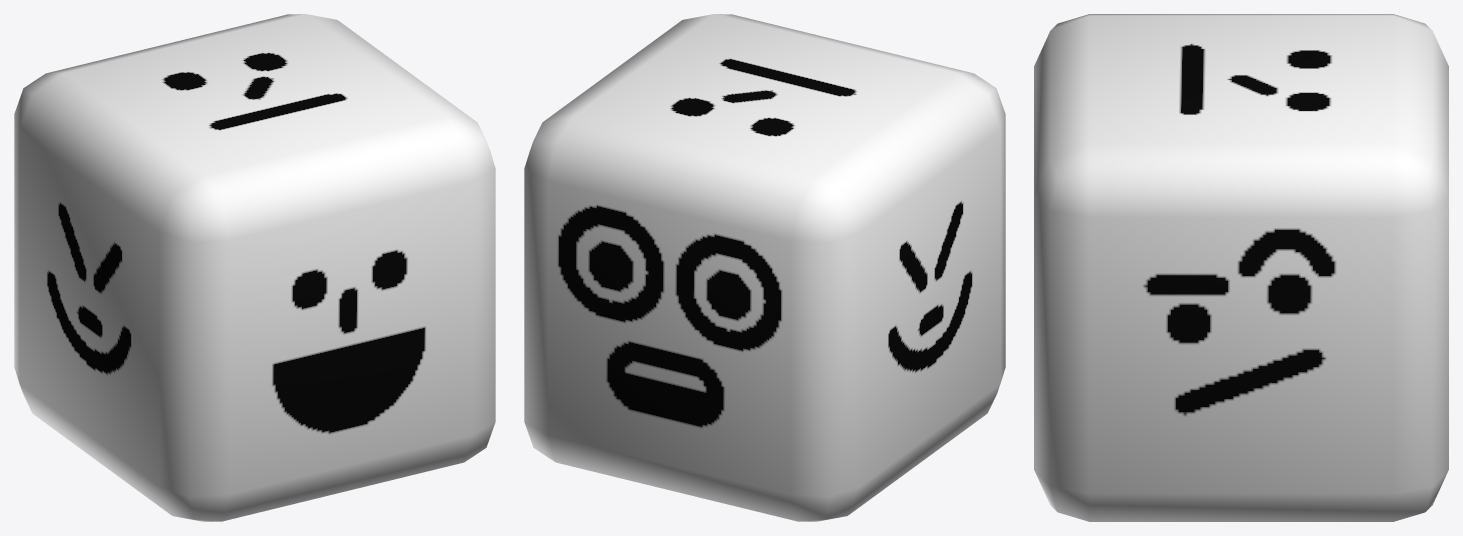
File: Body.fbx
3 views of the same model, side by side, from view 1: azimuth 30°, elevation 25°; view 2: azimuth 150°, elevation 25°; view 3: azimuth 270°, elevation 25° (orthographic). The views are drawn at different scales.
Parts seen in each view (by area): view 1: DieBOdy; view 2: DieBOdy; view 3: DieBOdy.
Boxes of the visible parts, x1,y1,x2,y2 form: DieBOdy: [14, 14, 495, 521]; DieBOdy: [524, 14, 1005, 521]; DieBOdy: [1034, 14, 1448, 521].
Bounding box in the file's own units: 200 × 200 × 200.
